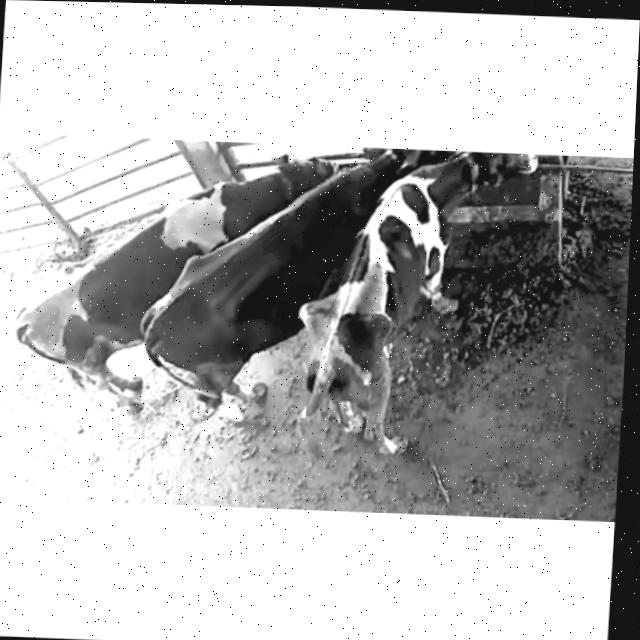drink: (319, 145, 454, 219)
